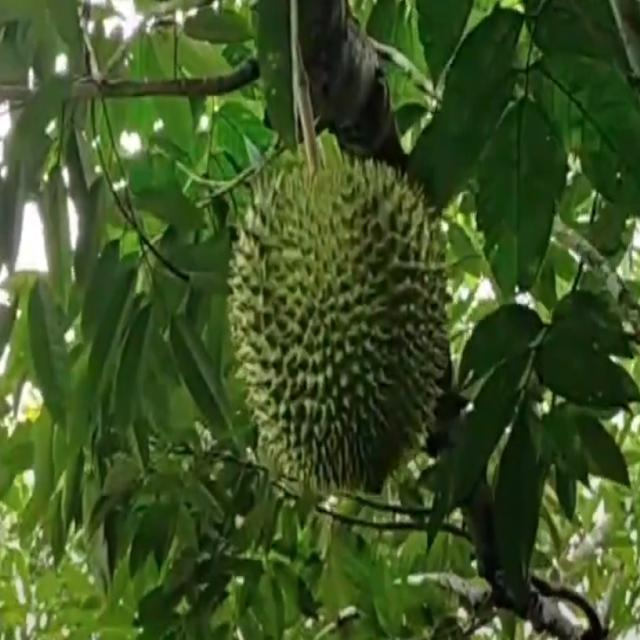immature: (230, 152, 450, 508)
